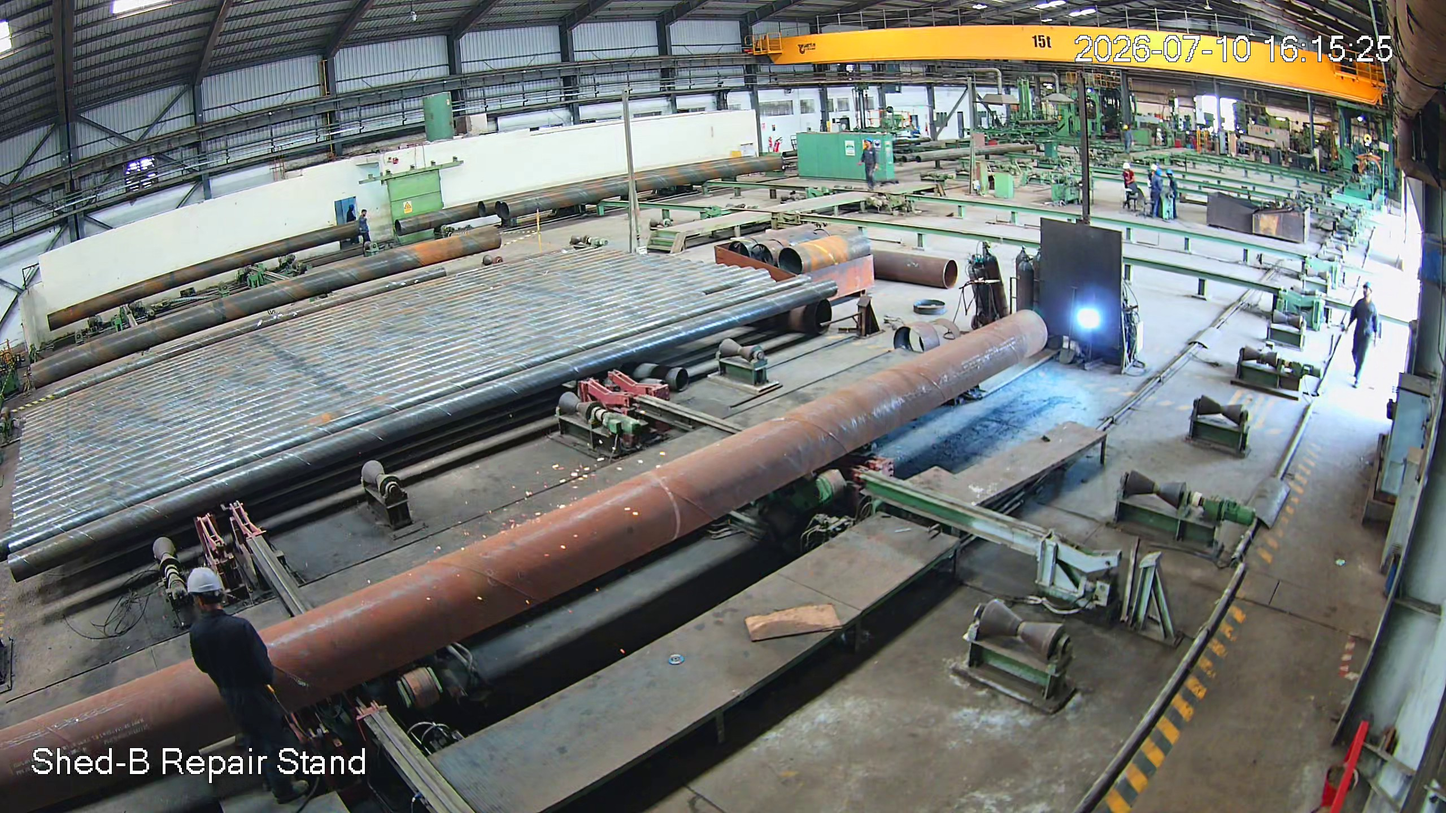Helmet: (182, 567, 244, 628), (1356, 277, 1380, 312), (1120, 162, 1133, 174), (1154, 168, 1163, 182), (864, 138, 876, 148), (1165, 168, 1175, 179)
Person: (176, 568, 320, 813), (1345, 280, 1386, 401), (860, 138, 880, 189), (1164, 169, 1181, 217), (1122, 162, 1138, 208), (356, 208, 373, 247), (1150, 169, 1163, 218)
